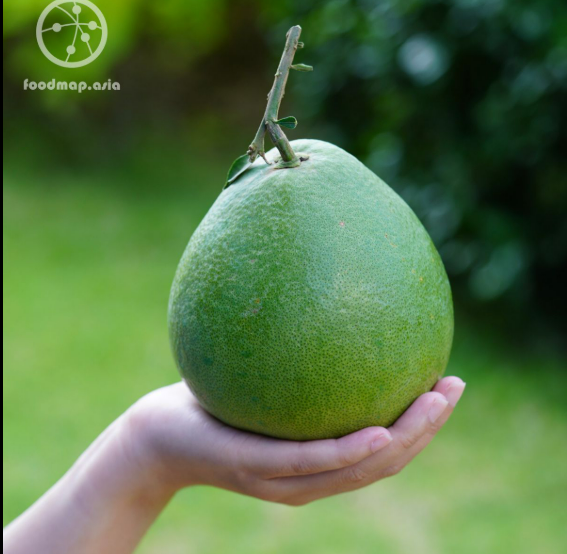buoi: (164, 19, 458, 442)
